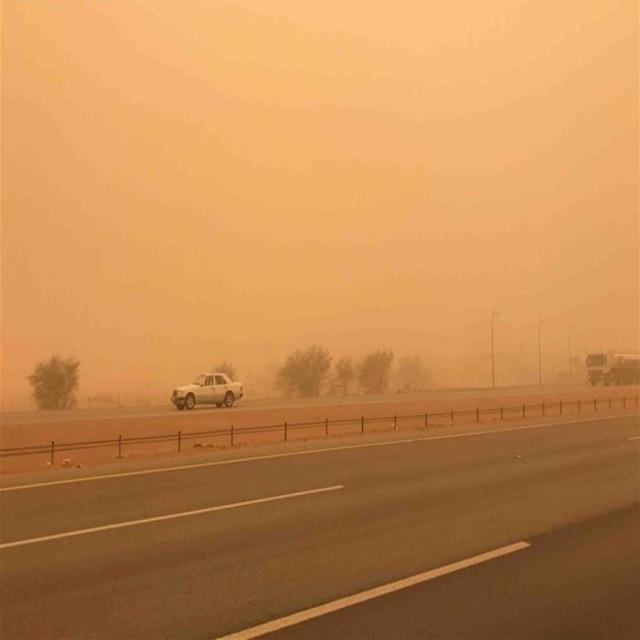car: (171, 371, 245, 411)
